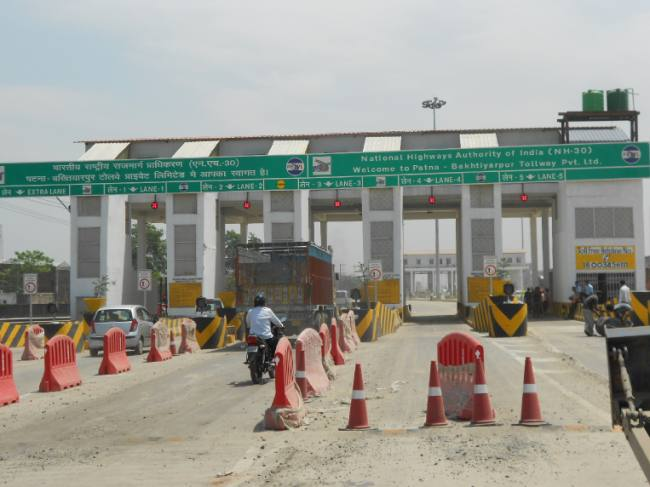toll plaza: (28, 142, 650, 195)
